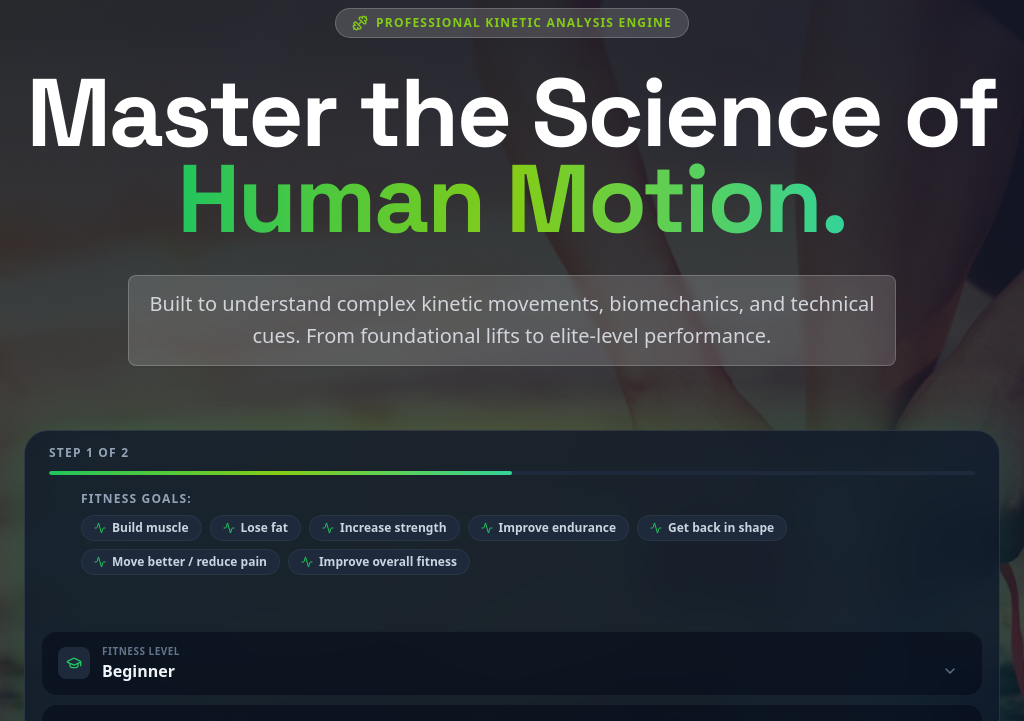
Test: OnboardingWizard › should navigate back to step 1 from step 2
Note: Complete step 1
Click the button "Build muscle" at (141, 528), box 81,515 -> 202,541
(page scrolled)
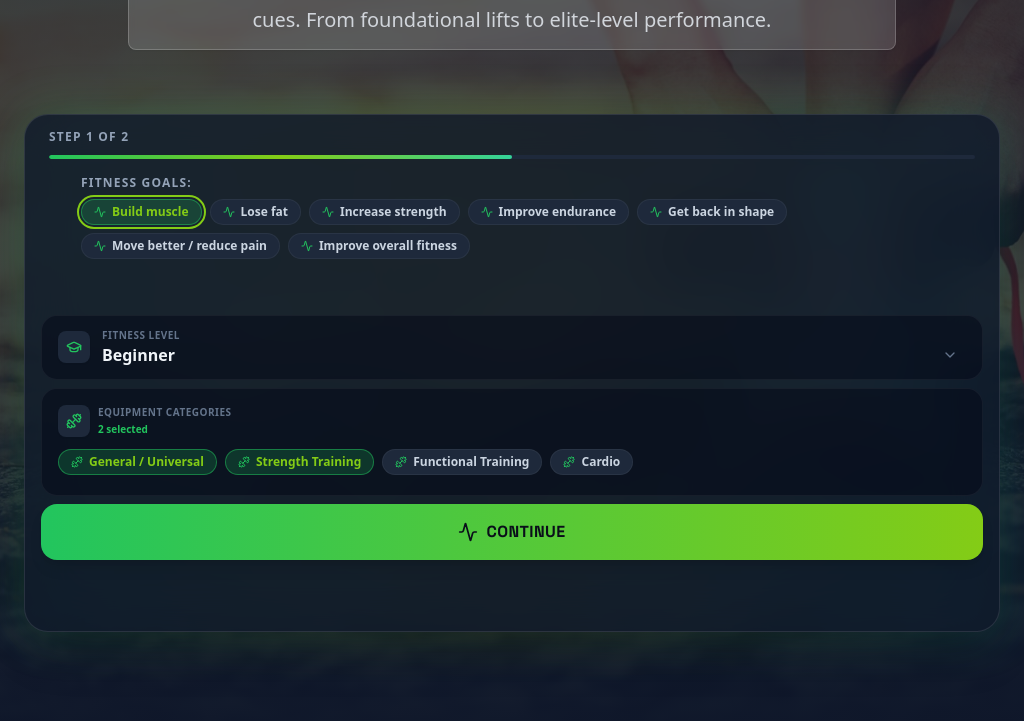
Click the button "CONTINUE" at (512, 532), box 41,504 -> 983,560
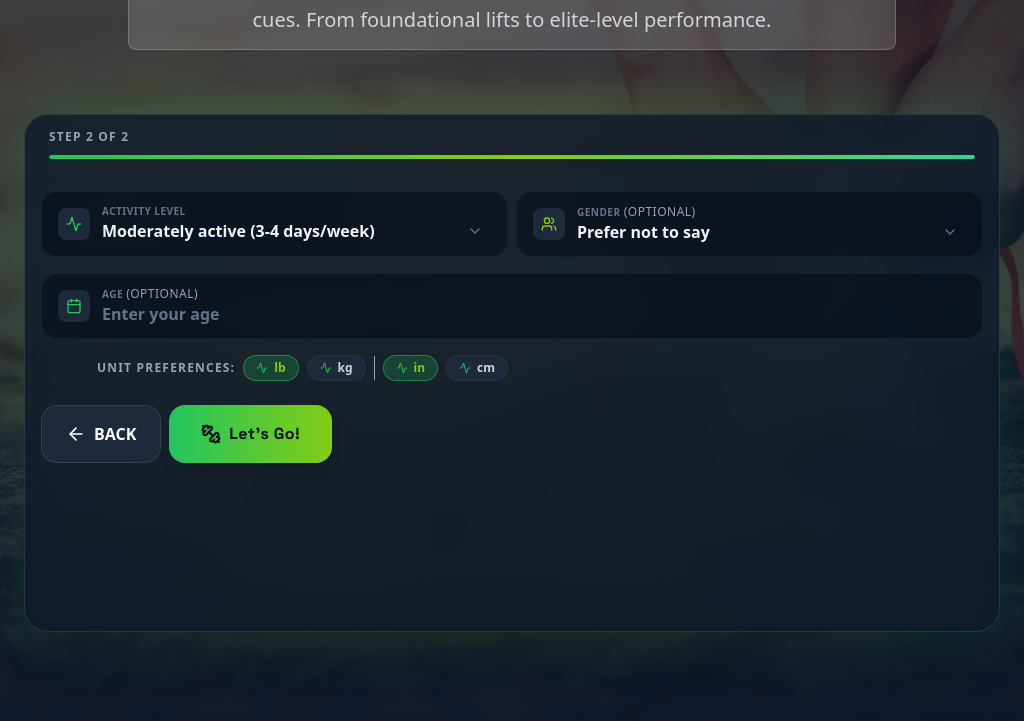
Now the text "Step 2 of 2" is shown, box 49,128 -> 129,145
Note:  Go back
Click the button "BACK" at (101, 434), box 41,405 -> 161,463
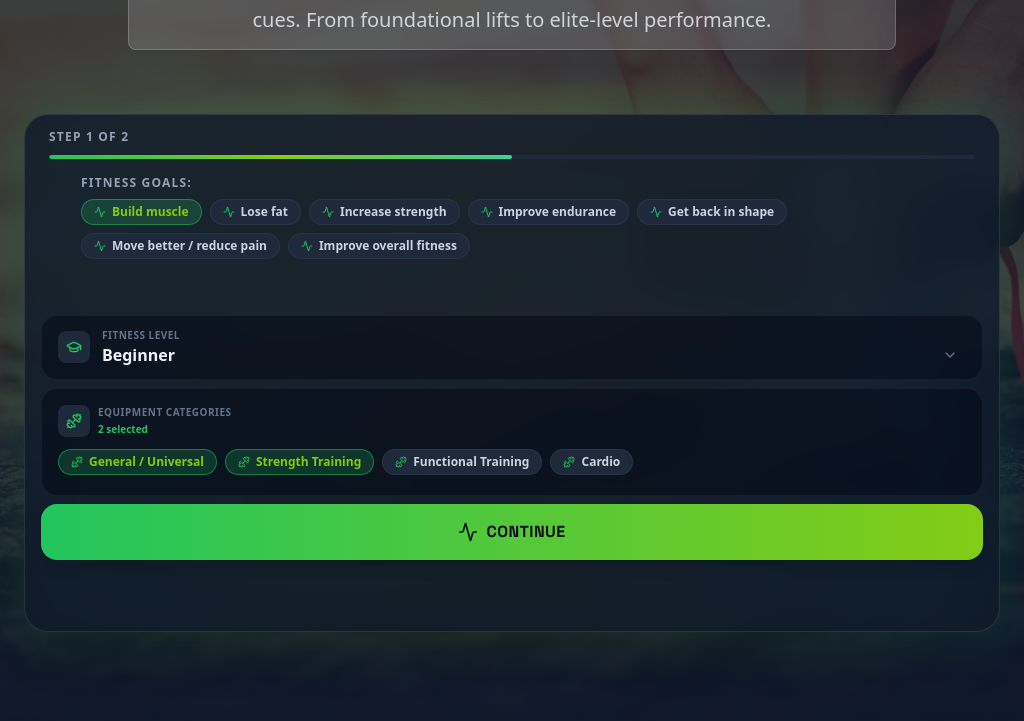
Now the text "Step 1 of 2" is shown, box 49,128 -> 129,145
